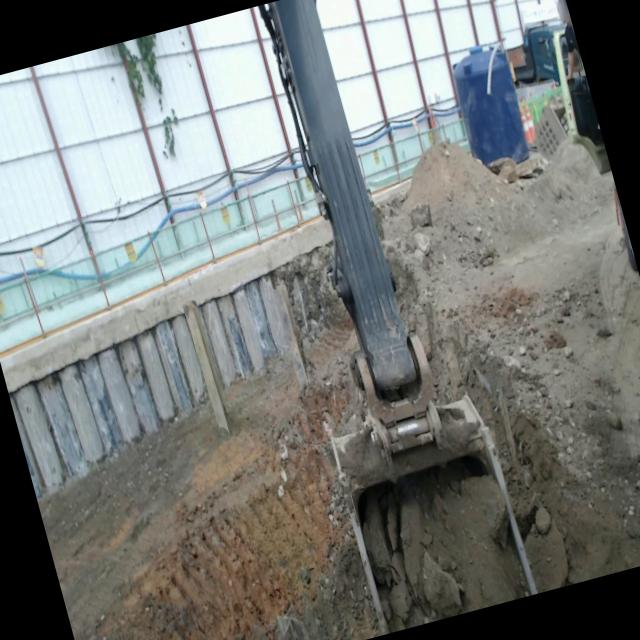white-sand: (37, 242, 382, 640), (373, 144, 640, 593), (358, 456, 530, 633)
